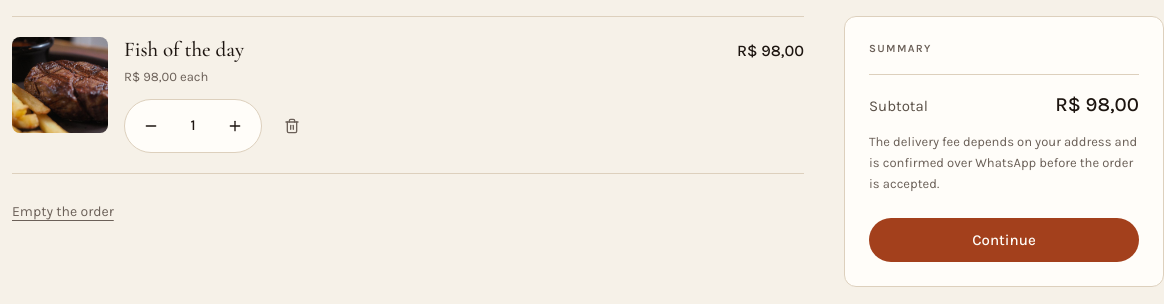
Test: CartView › removes the line when the quantity drops past one
Click the button named "one fewer fish of the day".
click(151, 126)  # box [129, 104, 173, 148]
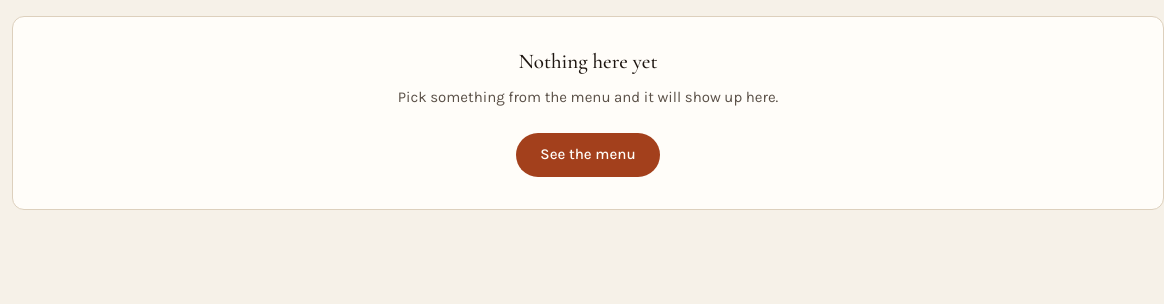
Now the text "Nothing here yet" is shown, box [518, 49, 658, 74]
